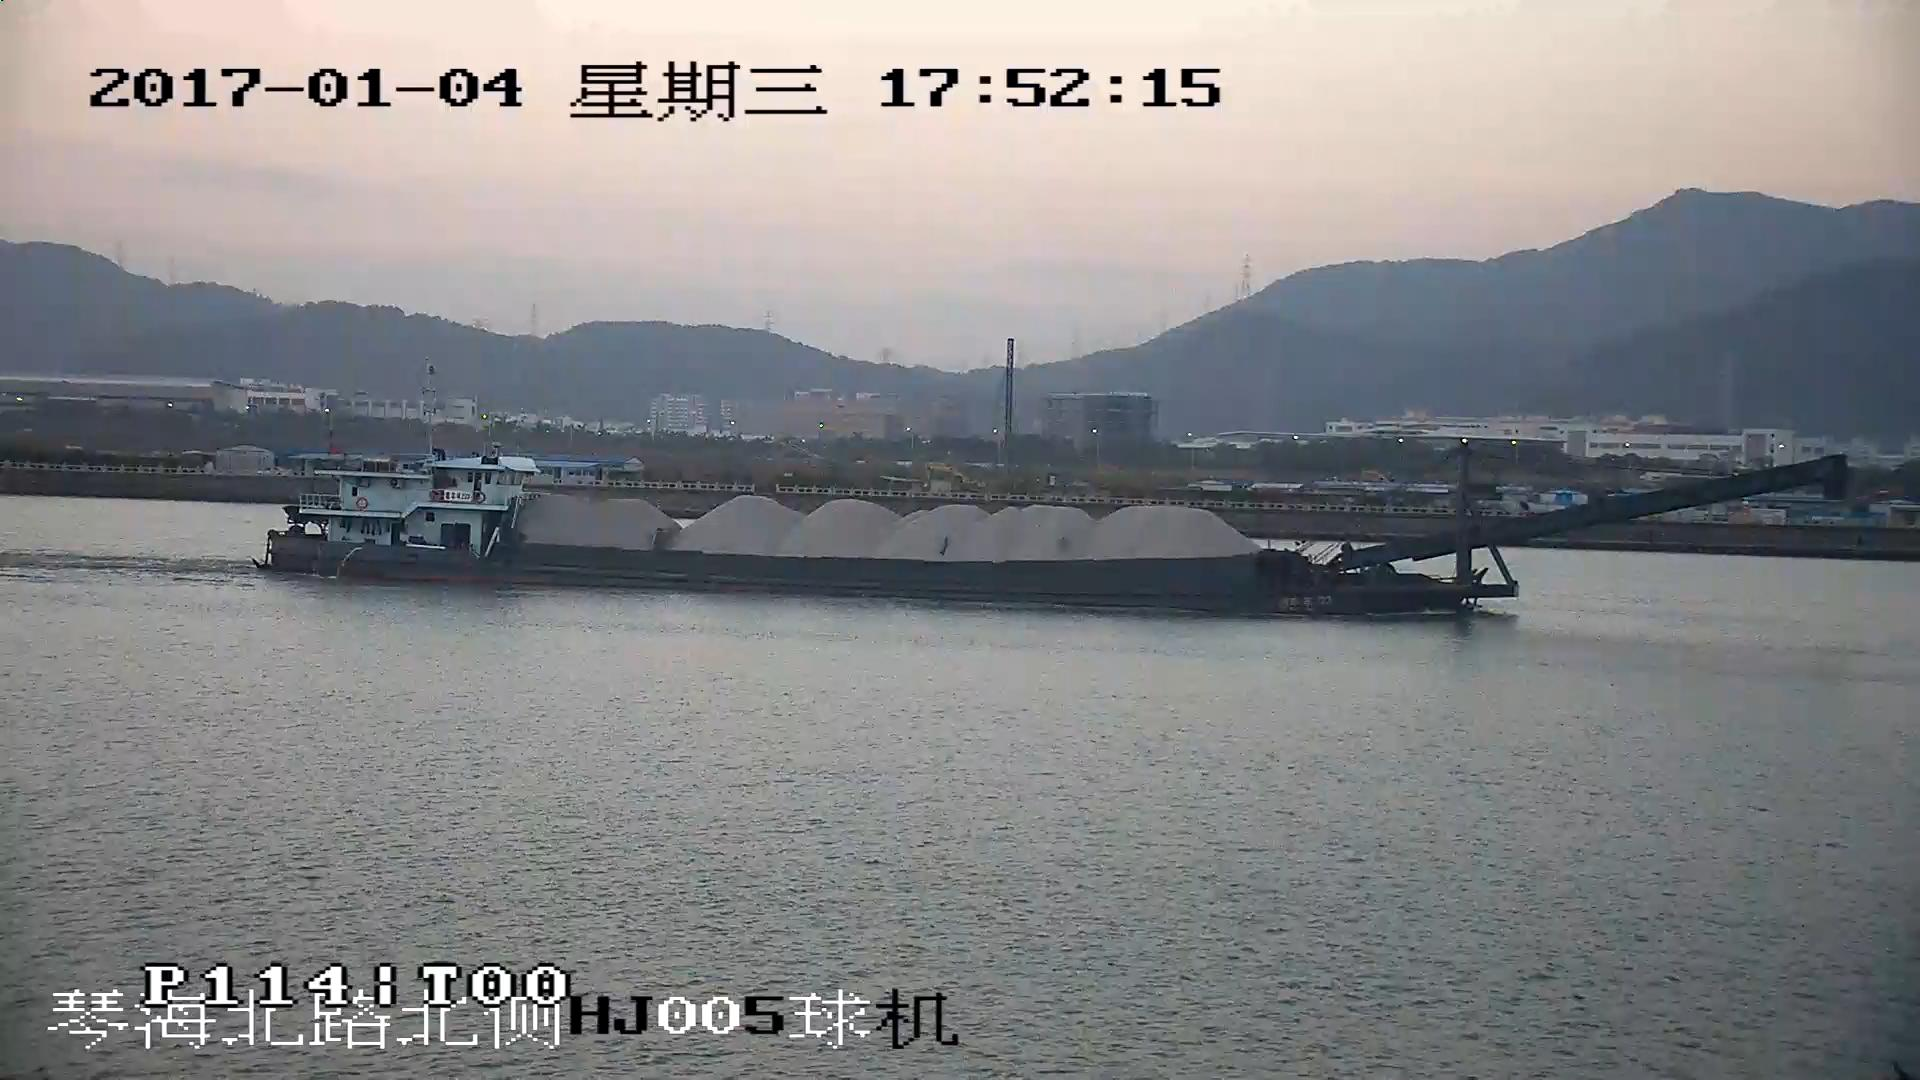ore carrier: (262, 458, 1842, 612)
